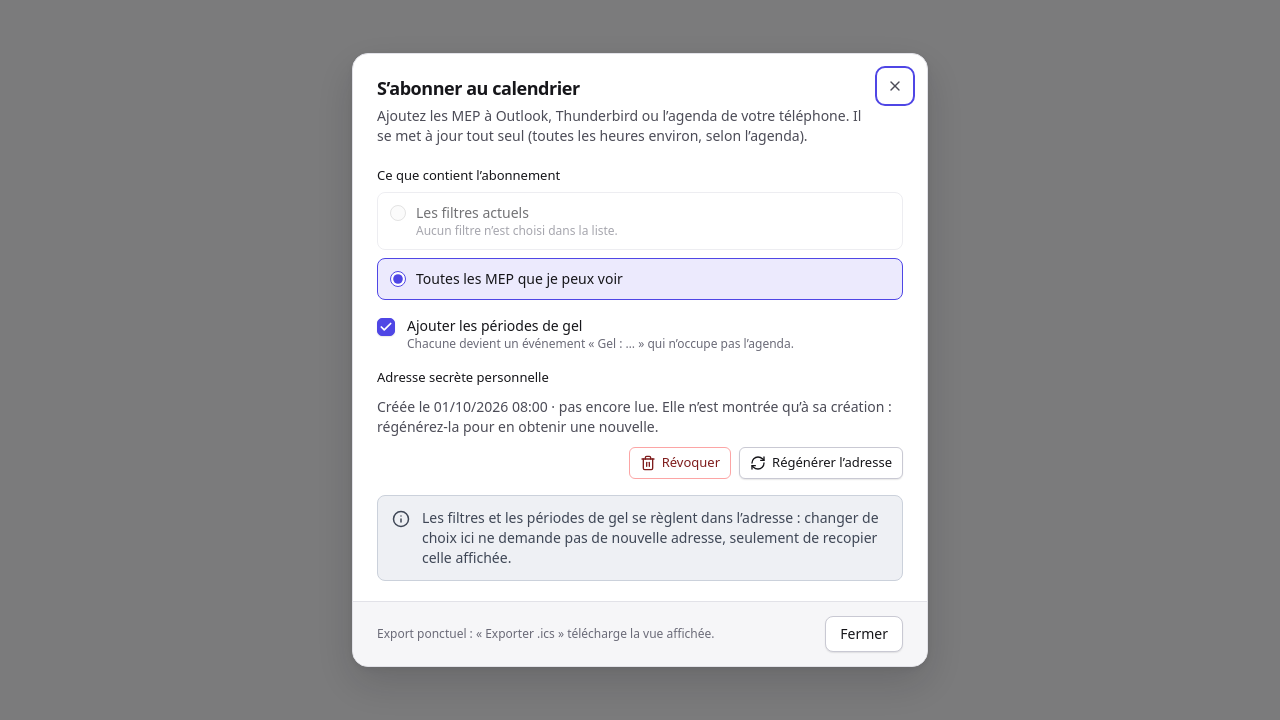
Scenario: AbonnementDialog › régénère ou révoque une adresse existante après confirmation
Expected: the text "pas encore lue" is shown, [559,397,655,416]
Click the button "Révoquer".
click(680, 463)  # box [629,447,731,479]
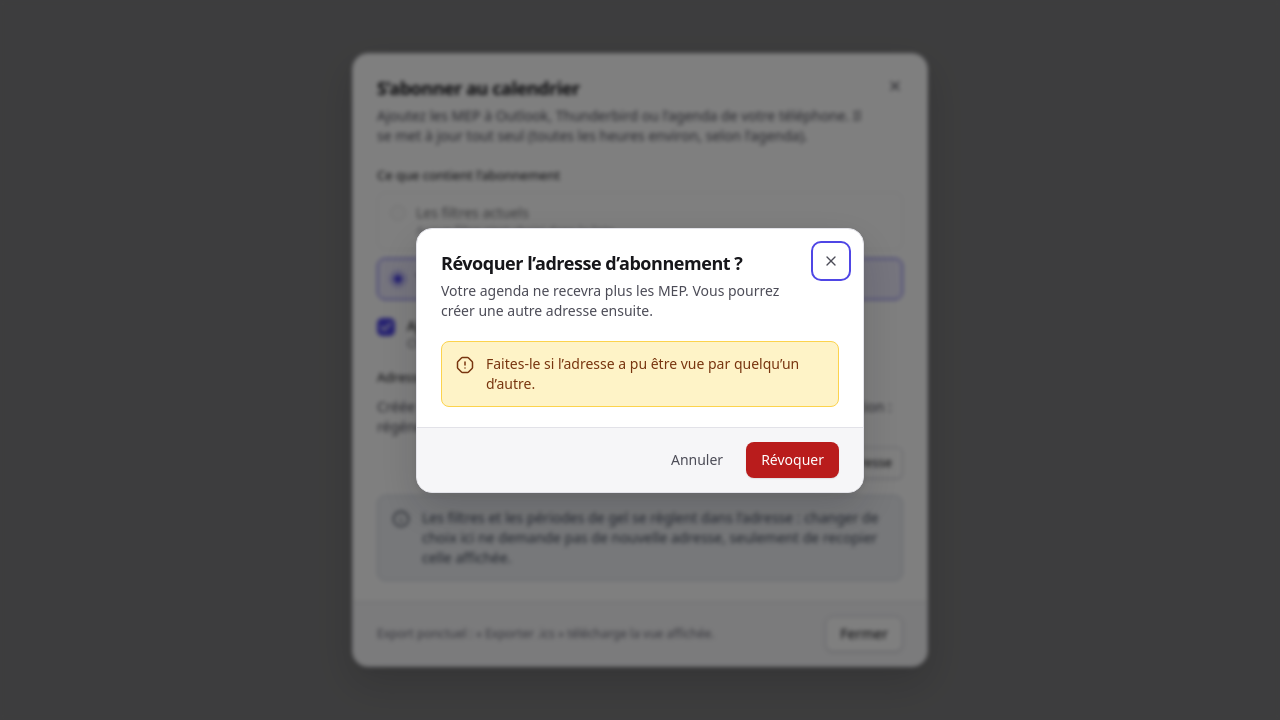
Now the heading "Révoquer l’adresse d’abonnement ?" is shown, box [441,250,742,274]
Click the button "Révoquer".
click(793, 460)  # box [746,442,839,478]
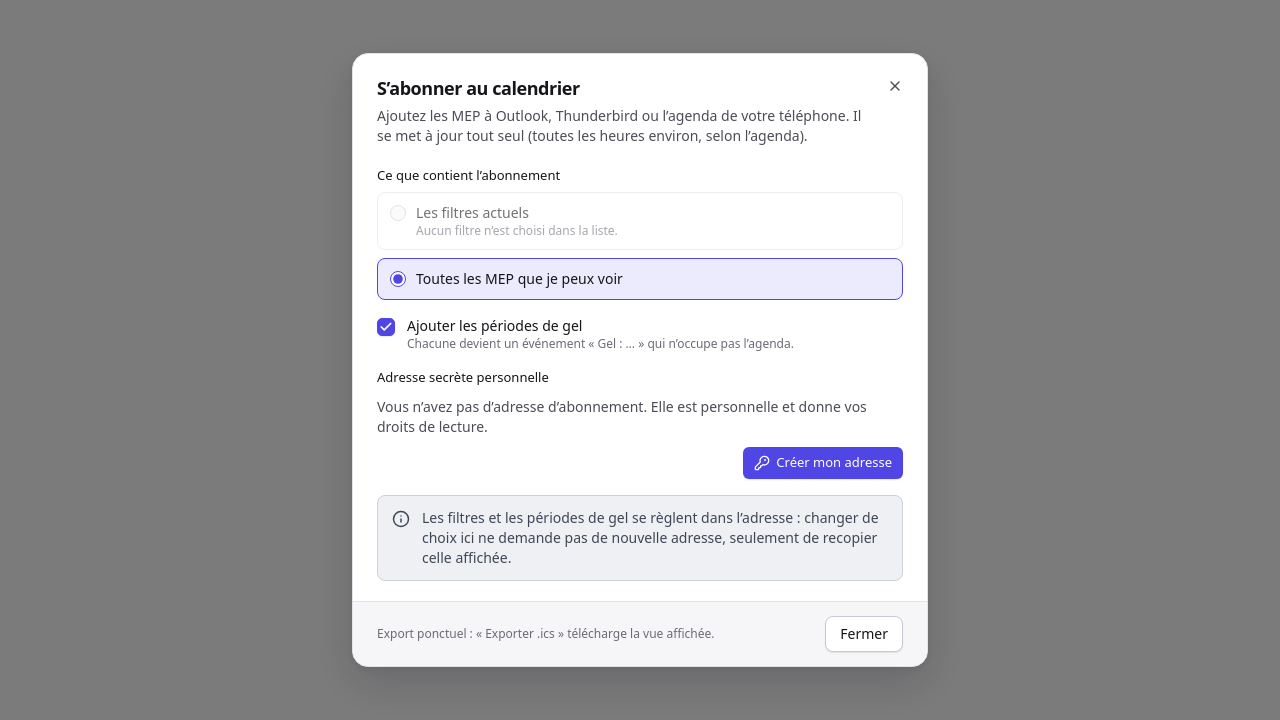
Now the button "Créer mon adresse" is shown, box [743,447,903,479]
